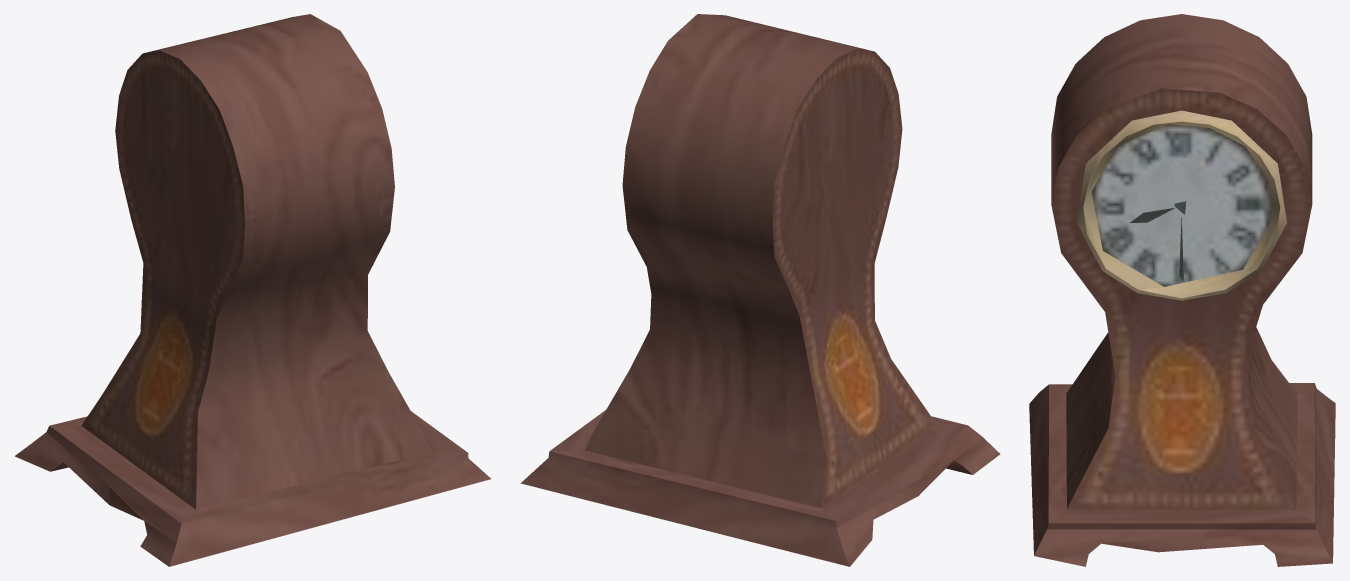
The model's file is clock-table-small.lod1.glb.
3 views of the same model, side by side, from view 1: azimuth 30°, elevation 25°; view 2: azimuth 150°, elevation 25°; view 3: azimuth 270°, elevation 25° (orthographic).
Visible parts, largest first — view 1: clock-table-small; view 2: clock-table-small; view 3: clock-table-small.
Boxes of the visible parts, left/top/right/bottom form: clock-table-small: left=15, top=14, right=490, bottom=566; clock-table-small: left=520, top=14, right=1000, bottom=566; clock-table-small: left=1029, top=14, right=1335, bottom=566.
Size of the model in its own units: 0.2426 by 0.2994 by 0.1921.
Materials: 1 (1 with a texture image).
